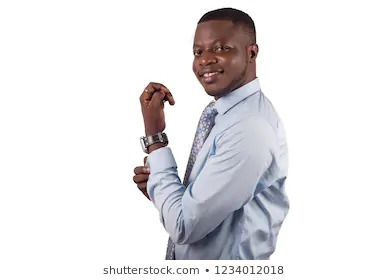F_shirt: (144, 85, 289, 262)
